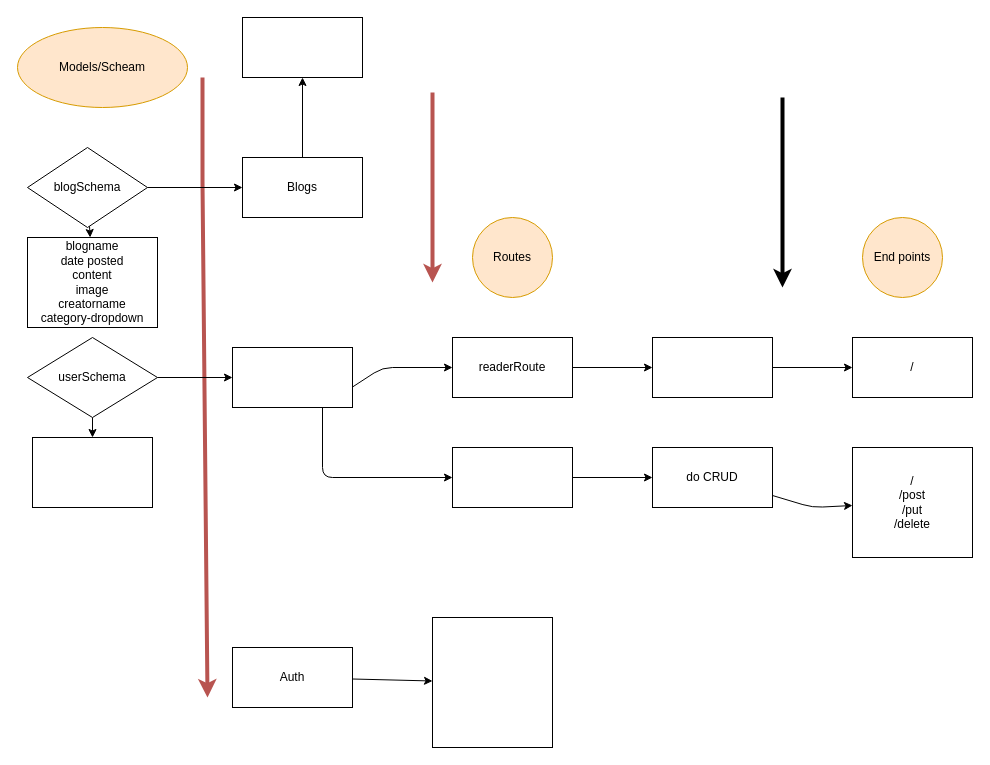
The diagram is 990 pixels wide and 765 high, and some of its shapes have lost their labels. Here are the shapes that lost their labels. From the top down, the box of each, then its label:
(242, 16, 362, 78): one writer many blogs one blog one writer
(232, 346, 352, 408): users
(652, 336, 772, 398): Auth..then access the blogs
(32, 436, 152, 508): name role email password
(452, 446, 572, 508): creatorRoute
(432, 616, 552, 748): to read a blog one has to be autheticated
